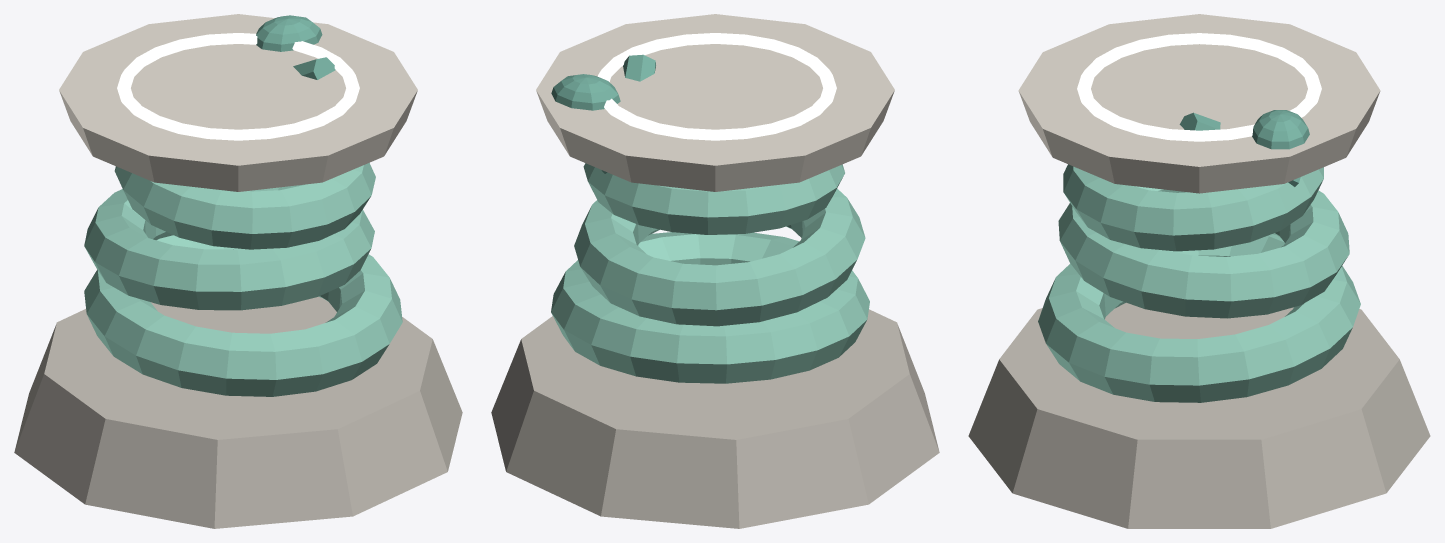
The model's file is ninth_pedestal.glb.
3 views of the same model, side by side, from view 1: azimuth 30°, elevation 25°; view 2: azimuth 150°, elevation 25°; view 3: azimuth 270°, elevation 25° (orthographic).
Visible parts, largest first — view 1: Base, TopPlate, Coil1, Coil2, Coil3, Inlay, SerpentHead, SerpentNeck; view 2: Base, TopPlate, Coil1, Coil2, Coil3, Inlay, SerpentHead, SerpentNeck; view 3: Base, TopPlate, Coil1, Coil2, Coil3, Inlay, SerpentHead, SerpentNeck.
Part boxes in pixels (bbox=[...]): Base: bbox=[14, 296, 462, 528]; TopPlate: bbox=[59, 14, 417, 191]; Coil1: bbox=[84, 235, 402, 396]; Coil2: bbox=[84, 184, 374, 310]; Coil3: bbox=[114, 163, 375, 249]; Inlay: bbox=[117, 33, 359, 140]; SerpentHead: bbox=[256, 15, 322, 51]; SerpentNeck: bbox=[293, 57, 335, 79]; Base: bbox=[491, 309, 939, 528]; TopPlate: bbox=[536, 14, 894, 191]; Coil1: bbox=[551, 232, 869, 383]; Coil2: bbox=[574, 188, 865, 326]; Coil3: bbox=[583, 163, 844, 234]; Inlay: bbox=[597, 33, 836, 140]; SerpentHead: bbox=[551, 74, 620, 110]; SerpentNeck: bbox=[601, 54, 655, 173]; Base: bbox=[968, 302, 1430, 528]; TopPlate: bbox=[1018, 14, 1380, 193]; Coil1: bbox=[1038, 234, 1360, 402]; Coil2: bbox=[1058, 186, 1349, 318]; Coil3: bbox=[1063, 164, 1323, 251]; Inlay: bbox=[1077, 33, 1321, 141]; SerpentHead: bbox=[1252, 110, 1309, 149]; SerpentNeck: bbox=[1179, 112, 1300, 186].
Bounding box in the file's own units: 1.14 × 1.05 × 1.2.
